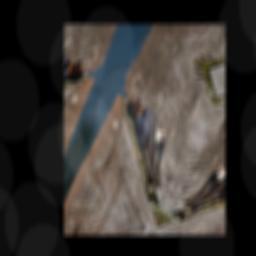Swallow: (97, 90, 192, 205)
